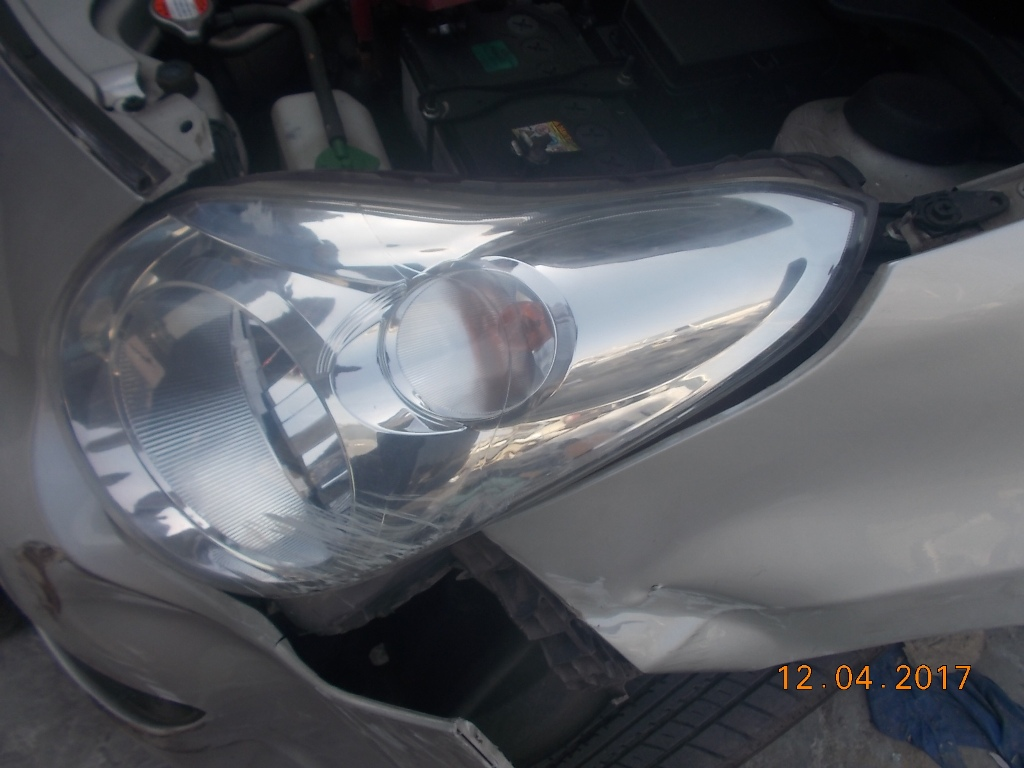Dislocation: (273, 516, 607, 751)
Scratch_or_spot: (622, 491, 848, 649), (21, 531, 72, 618)
